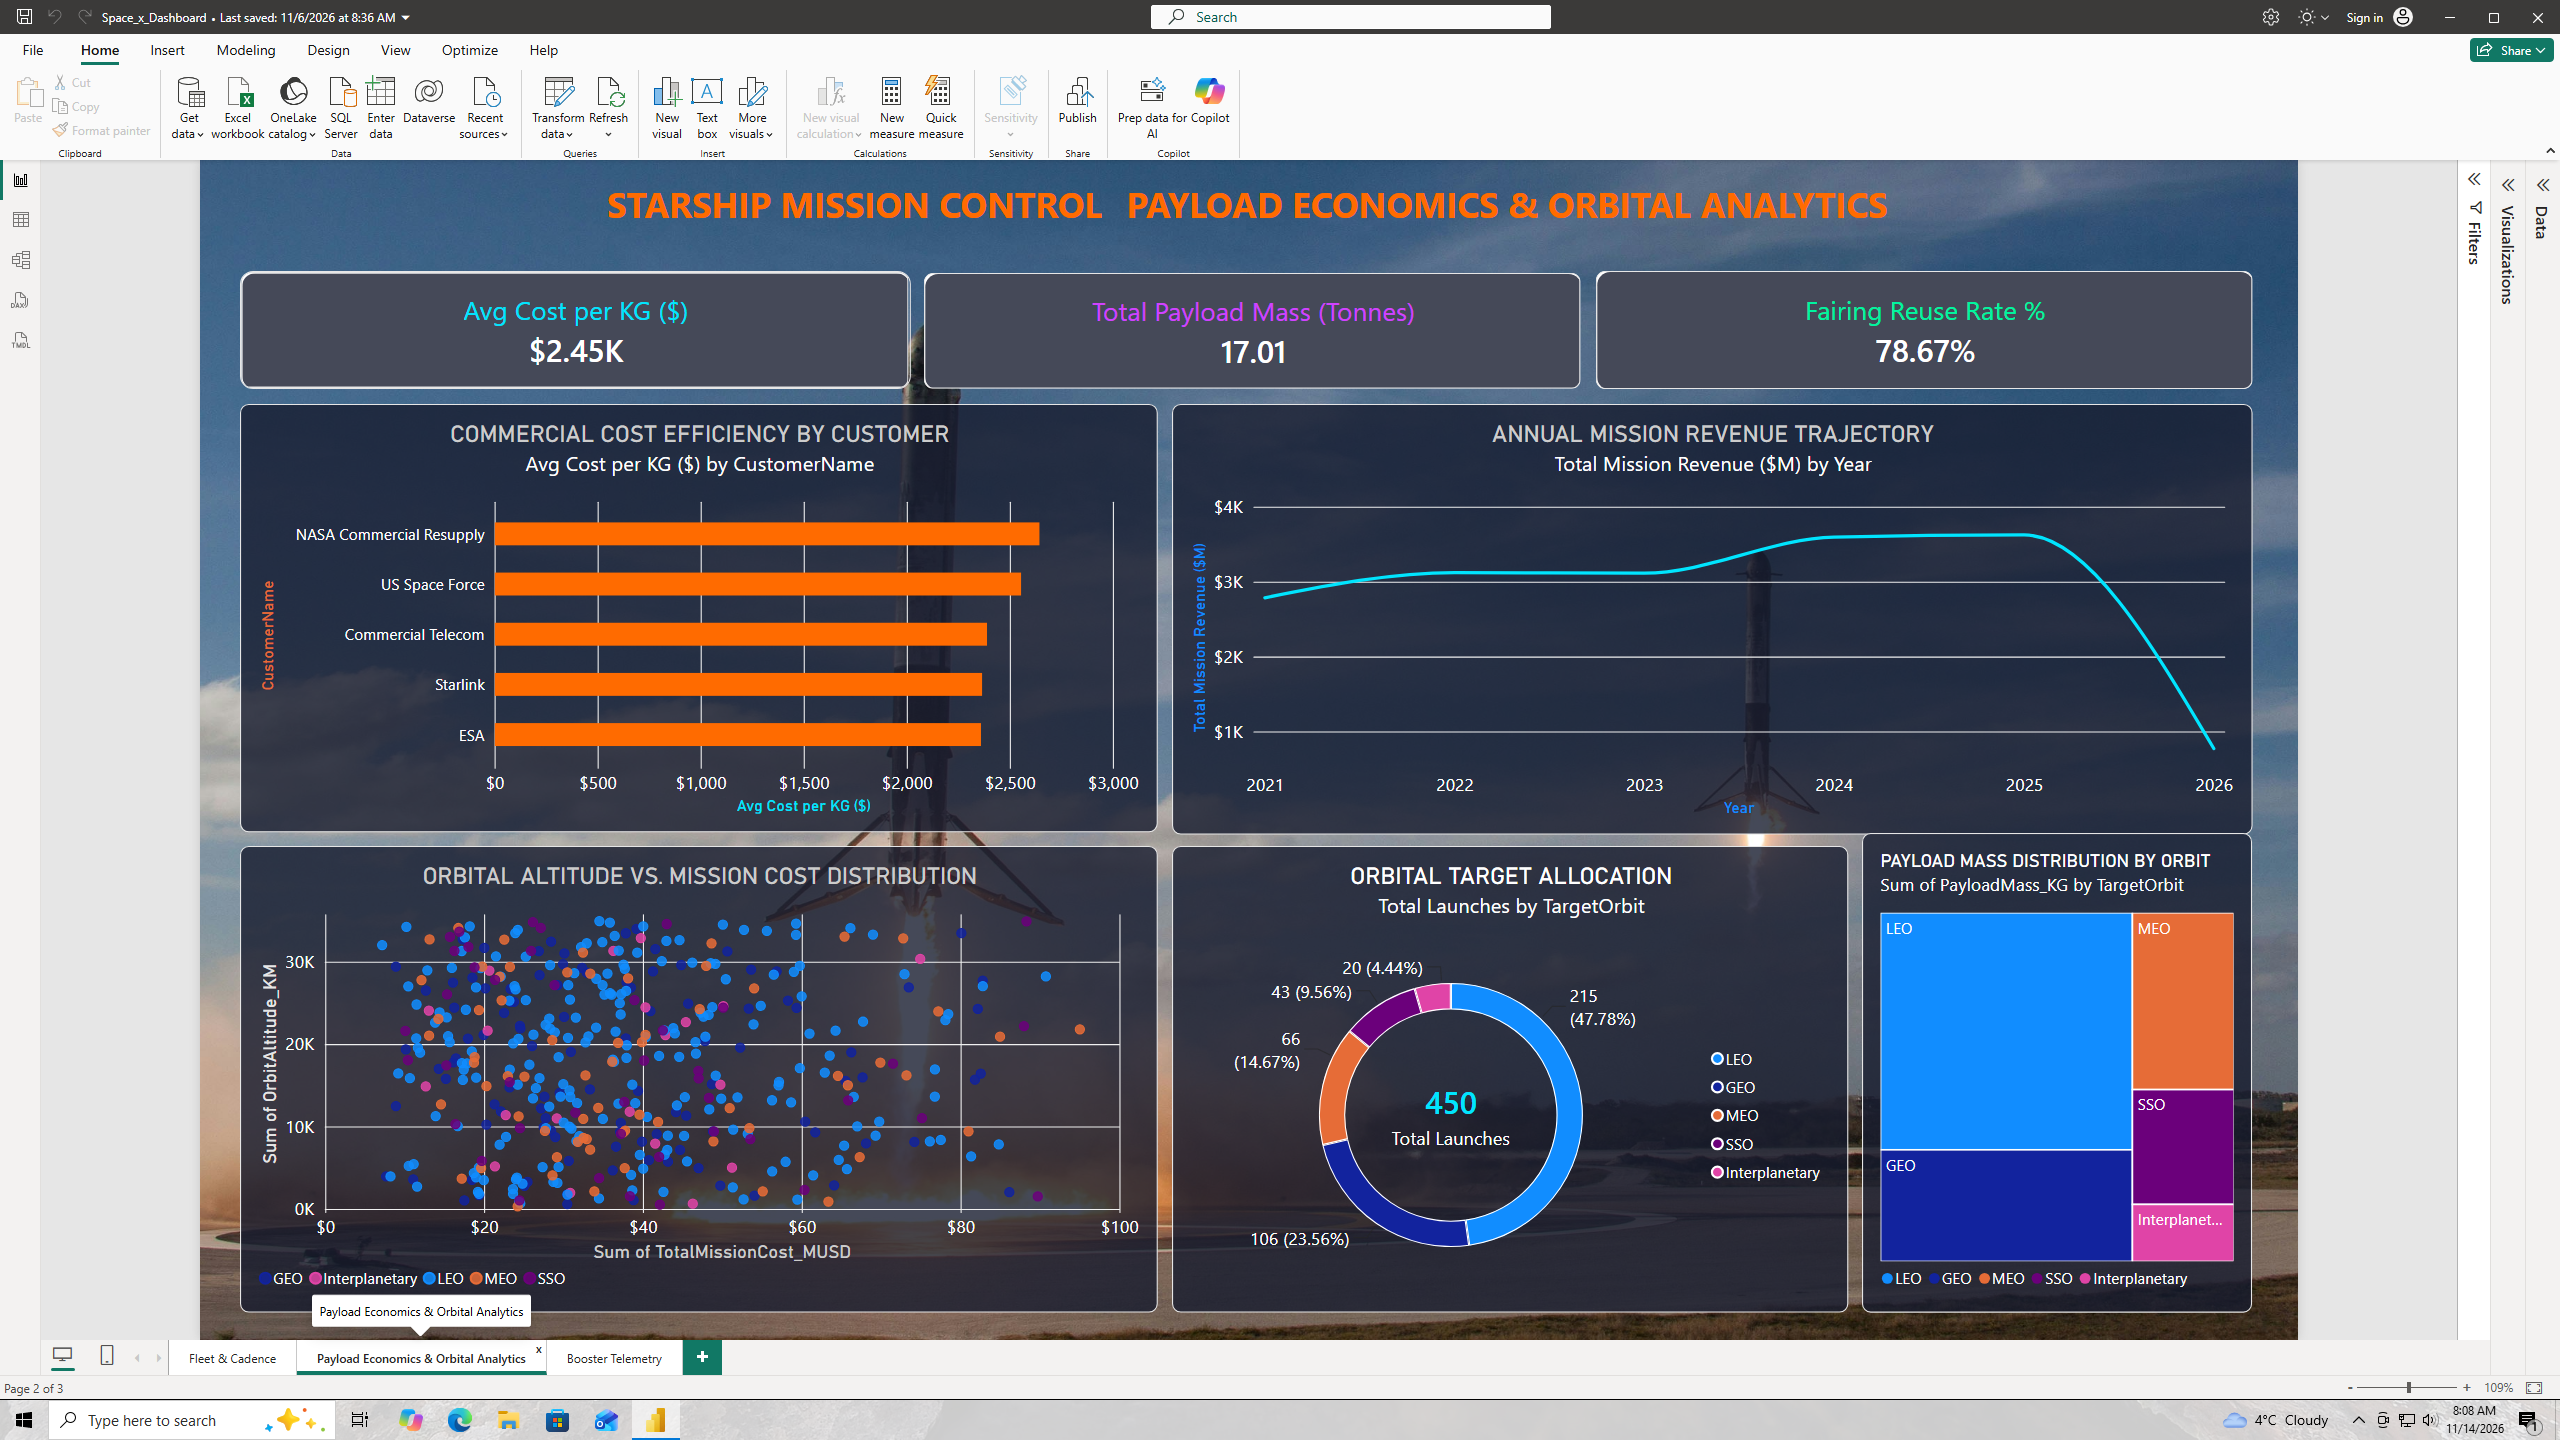

Layout of this report page (visuals, bound fields, positions):
{"tool":"powerbi","page":{"name":"Payload Economics & Orbital Analytics","canvas":[1920,1080],"ordinal":1},"visuals":[{"type":"cardVisual","fields":{"Data":["_Measures.Avg Cost per KG ($)"]},"box":[36.7,101.9,614,108.1],"z":0},{"type":"cardVisual","fields":{"Data":["_Measures.Total Payload Mass (Tonnes)"]},"box":[662.9,103.5,601.1,106.9],"z":1000},{"type":"cardVisual","fields":{"Data":["_Measures.Fairing Reuse Rate %"]},"box":[1277.4,101.9,601.7,108.1],"z":2000},{"type":"scatterChart","title":"ORBITAL ALTITUDE VS. MISSION COST DISTRIBUTION","fields":{"Category":["Dim_PayloadDetails.LaunchID"],"X":["Sum(Dim_PayloadDetails.TotalMissionCost_MUSD)"],"Y":["Sum(Dim_PayloadDetails.OrbitAltitude_KM)"],"Series":["Fact_Launches.TargetOrbit"]},"box":[36.7,627.8,839.9,427.5],"z":3000},{"type":"donutChart","title":"ORBITAL TARGET ALLOCATION","fields":{"Category":["Fact_Launches.TargetOrbit"],"Y":["_Measures.Total Launches"]},"box":[890,627.8,619.5,427.5],"z":4000},{"type":"clusteredBarChart","title":"COMMERCIAL COST EFFICIENCY BY CUSTOMER","fields":{"Category":["Fact_Launches.CustomerName"],"Y":["_Measures.Avg Cost per KG ($)"]},"box":[36.7,223.7,839.9,392.4],"z":5000},{"type":"lineChart","title":"ANNUAL MISSION REVENUE TRAJECTORY","fields":{"Category":["Fact_Launches.LaunchDate.Variation.Date Hierarchy.Year","Fact_Launches.LaunchDate.Variation.Date Hierarchy.Quarter","Fact_Launches.LaunchDate.Variation.Date Hierarchy.Month","Fact_Launches.LaunchDate.Variation.Date Hierarchy.Day"],"Y":["_Measures.Total Mission Revenue ($M)"]},"box":[890,223.7,988.5,394.1],"z":6000},{"type":"treemap","title":"PAYLOAD MASS DISTRIBUTION BY ORBIT","fields":{"Group":["Fact_Launches.TargetOrbit"],"Values":["Sum(Fact_Launches.PayloadMass_KG)"]},"box":[1521.2,616.1,357.3,439.1],"z":7000},{"type":"textbox","box":[41.7,18.4,1841.8,85.2],"z":8000}]}

Visuals, with their boxes on the page's 1920x1080 design canvas (x1, y1, x2, y2). These are canvas units, not pixel positions in the 2560x1440 screenshot, which may show the page scaled, cropped or inside an application window:
cardVisual - _Measures.Avg Cost per KG ($): x1=37, y1=102, x2=651, y2=210
cardVisual - _Measures.Total Payload Mass (Tonnes): x1=663, y1=104, x2=1264, y2=210
cardVisual - _Measures.Fairing Reuse Rate %: x1=1277, y1=102, x2=1879, y2=210
"ORBITAL ALTITUDE VS. MISSION COST DISTRIBUTION" scatterChart: x1=37, y1=628, x2=877, y2=1055
"ORBITAL TARGET ALLOCATION" donutChart: x1=890, y1=628, x2=1510, y2=1055
"COMMERCIAL COST EFFICIENCY BY CUSTOMER" clusteredBarChart: x1=37, y1=224, x2=877, y2=616
"ANNUAL MISSION REVENUE TRAJECTORY" lineChart: x1=890, y1=224, x2=1878, y2=618
"PAYLOAD MASS DISTRIBUTION BY ORBIT" treemap: x1=1521, y1=616, x2=1878, y2=1055
textbox: x1=42, y1=18, x2=1884, y2=104
